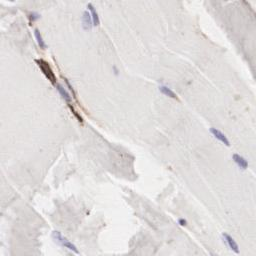nucleus: (52, 230, 79, 254), (208, 126, 230, 147), (223, 233, 239, 253), (232, 153, 248, 169), (89, 4, 99, 24), (81, 11, 92, 29), (34, 29, 45, 46), (59, 86, 69, 100), (160, 87, 174, 96), (30, 10, 42, 20), (178, 218, 186, 226)
positive_cell: (57, 85, 82, 122), (159, 86, 180, 101), (25, 11, 42, 25)
